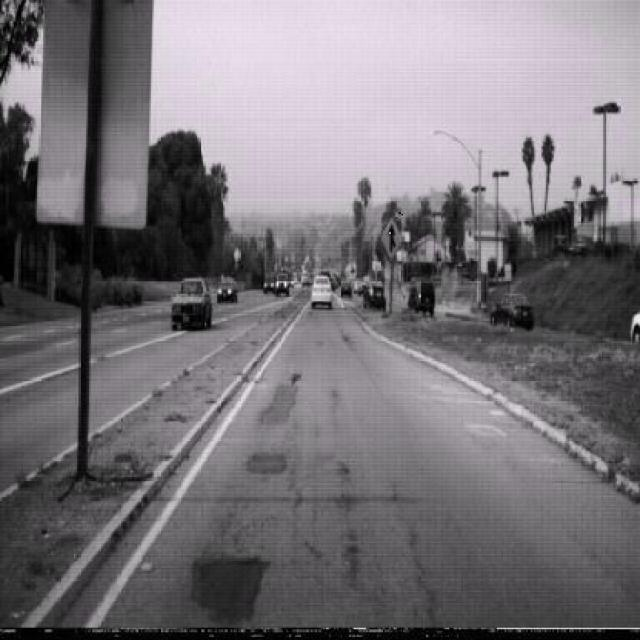merge: (382, 212, 406, 261)
